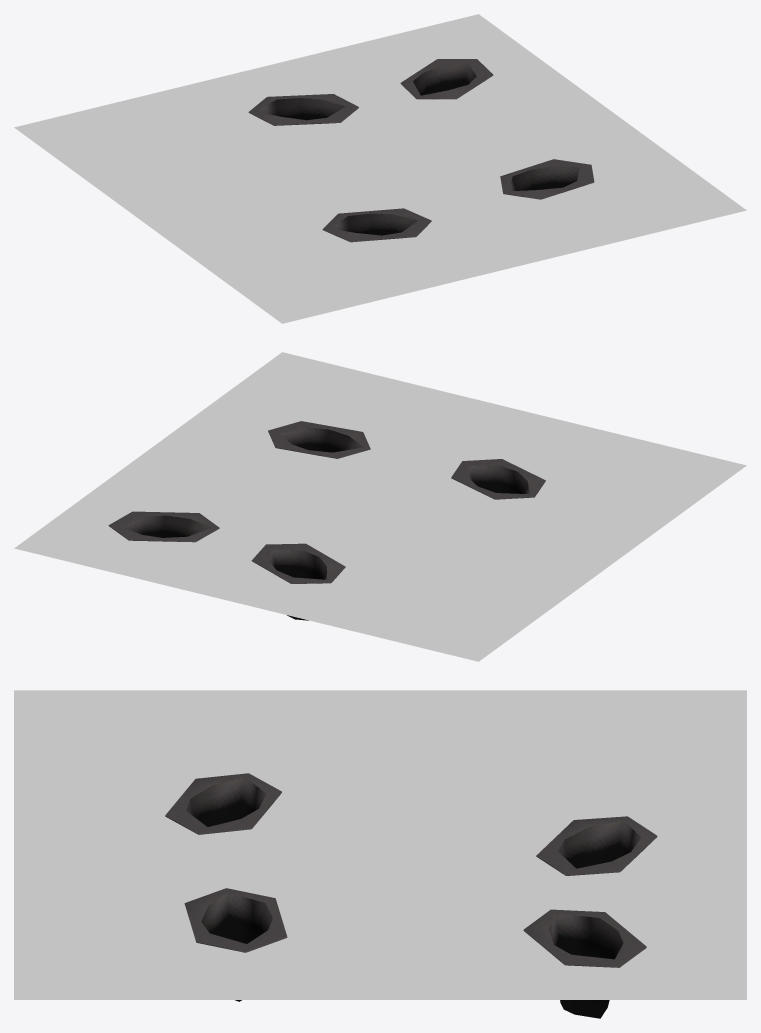
Rendered from YamaWoobsheObrywTipo2.fbx.
3 views of the same model, one above another, from view 1: azimuth 30°, elevation 25°; view 2: azimuth 150°, elevation 25°; view 3: azimuth 270°, elevation 25° (orthographic). The views are drawn at different scales.
Parts seen in each view (by area): view 1: Plane__56_; view 2: Plane__56_; view 3: Plane__56_.
Boxes of the visible parts, box(x1,y1,x2,y2) form: Plane__56_: box(14, 14, 746, 323); Plane__56_: box(14, 352, 746, 661); Plane__56_: box(14, 690, 746, 1018).
Bounding box in the file's own units: 40000 × 4112 × 40000.
